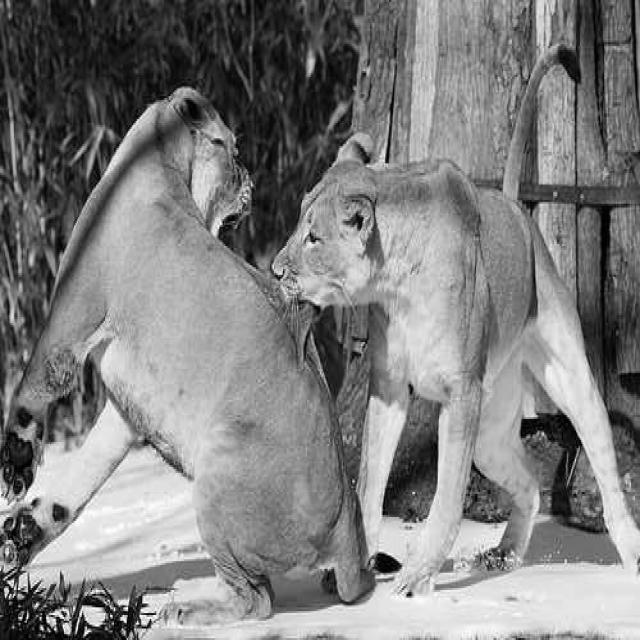Lion: (278, 143, 432, 394)
